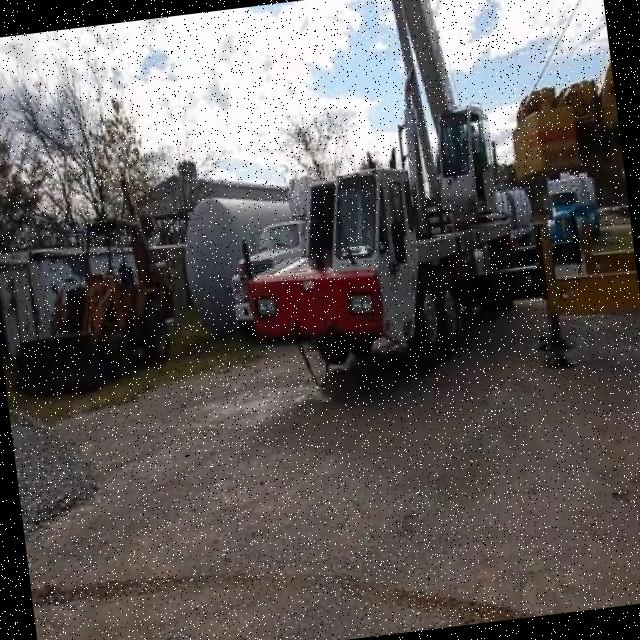Mobile Crane: (223, 0, 550, 379)
